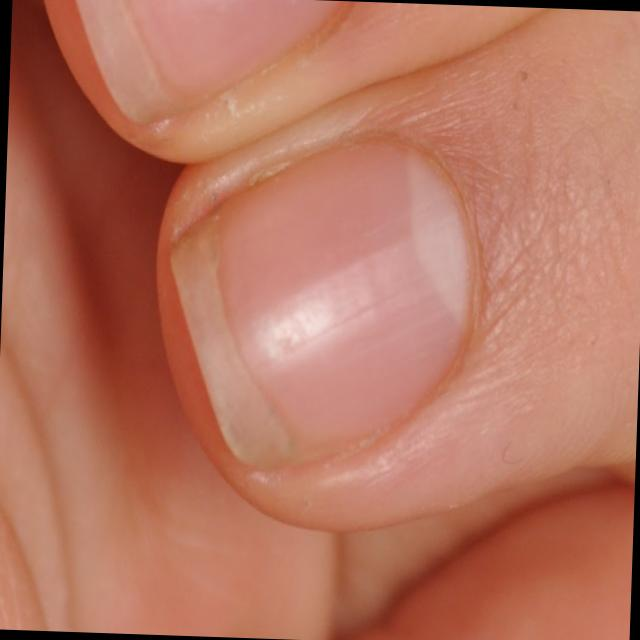Nail: (169, 145, 468, 470), (75, 0, 336, 124)
